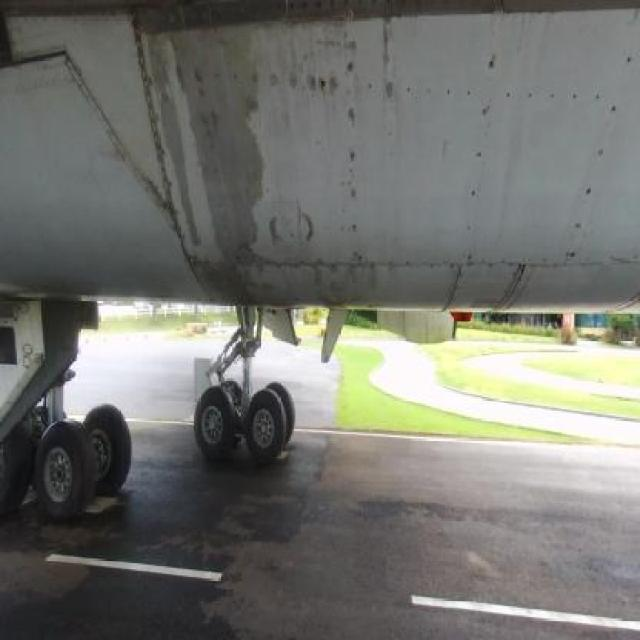Missing-Rivet: (193, 248, 455, 282), (338, 14, 370, 272), (458, 246, 630, 286), (466, 47, 500, 241), (194, 58, 335, 102), (354, 67, 483, 110), (496, 69, 604, 120), (598, 41, 636, 170), (551, 172, 612, 248)
Rust: (372, 8, 403, 74)
Scartch: (152, 40, 271, 305), (272, 22, 342, 109), (259, 197, 327, 263), (377, 75, 405, 112)
